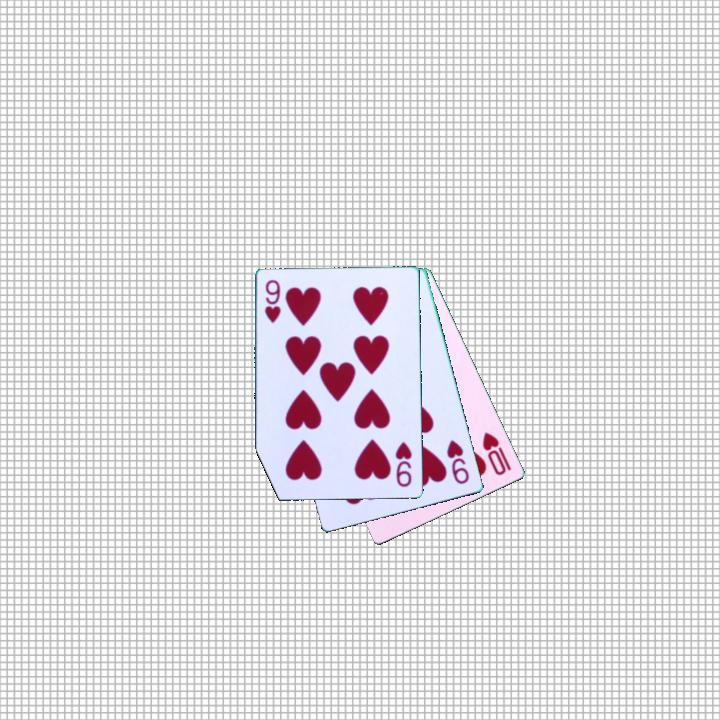10h: (479, 428, 515, 479)
9h: (443, 436, 473, 487), (392, 439, 415, 490), (262, 276, 283, 326)
